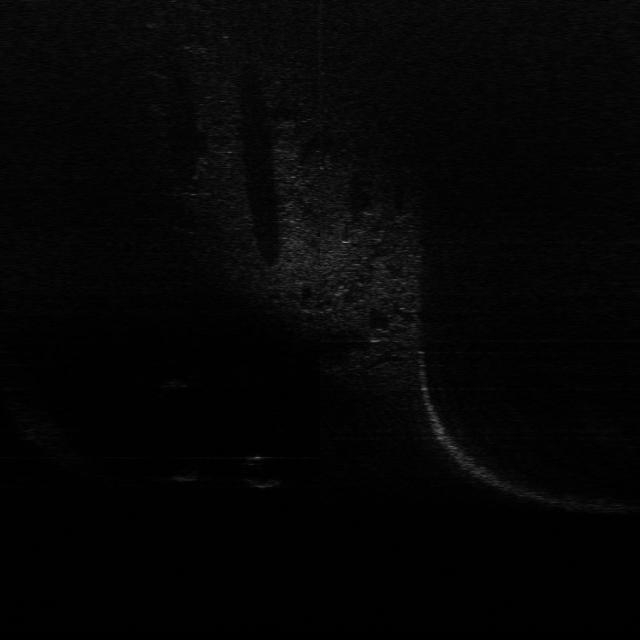cube: (164, 466, 200, 484)
square cage: (160, 376, 190, 390)
tyre: (234, 453, 287, 490)
